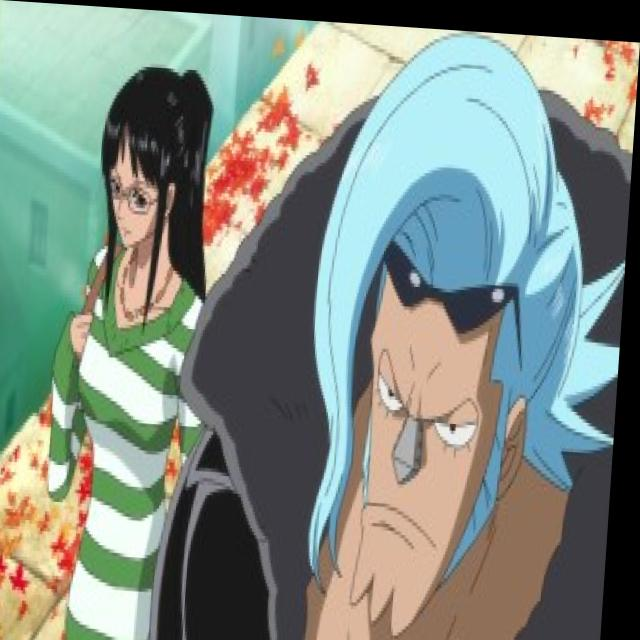Franky: (280, 33, 622, 640)
NicoRobin: (75, 52, 229, 277)
